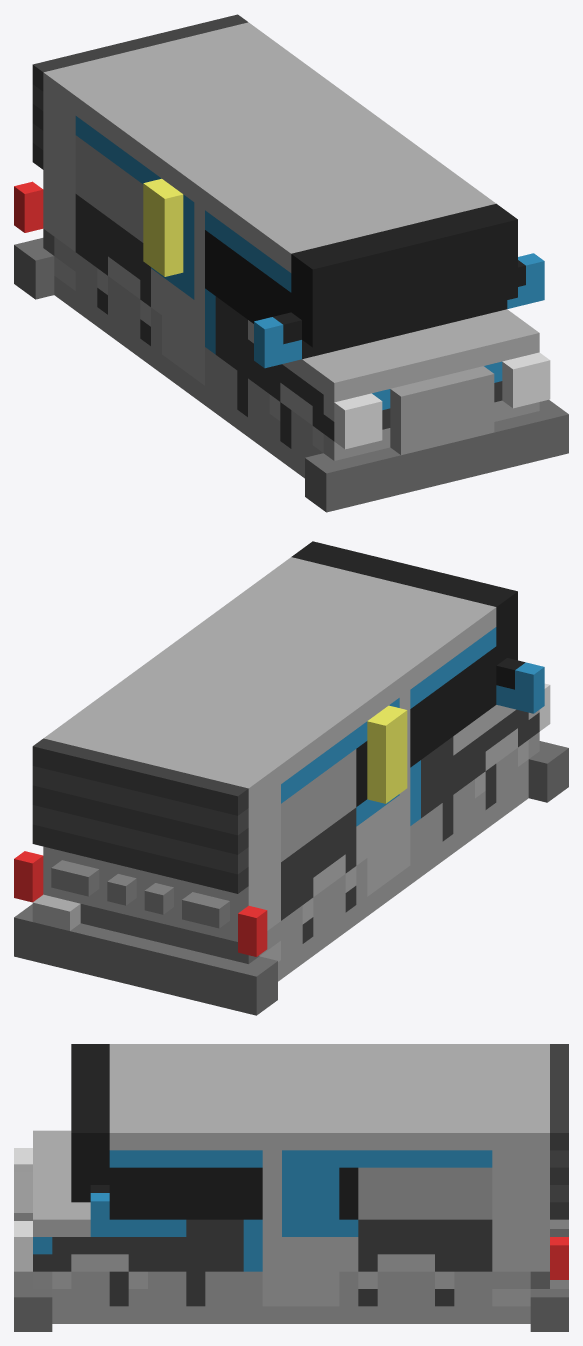
The model's file is van.obj.
The picture shows the model from 3 angles, top to bottom: view 1: azimuth 30°, elevation 25°; view 2: azimuth 150°, elevation 25°; view 3: azimuth 270°, elevation 25°; orthographic projection. The views are drawn at different scales.
Bounding box in the file's own units: 1.5 × 1.1 × 2.9.
Materials: 1 (1 with a texture image).
